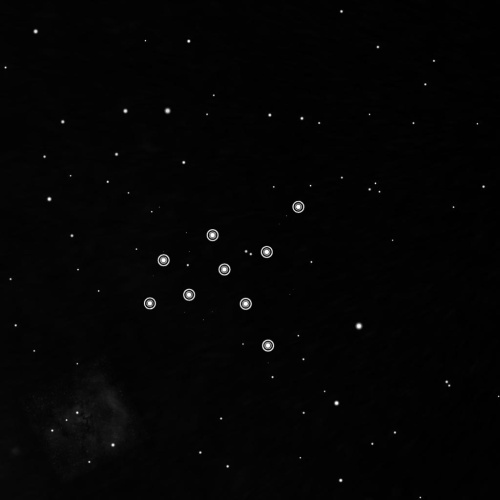cygnus: (137, 194, 308, 356)
